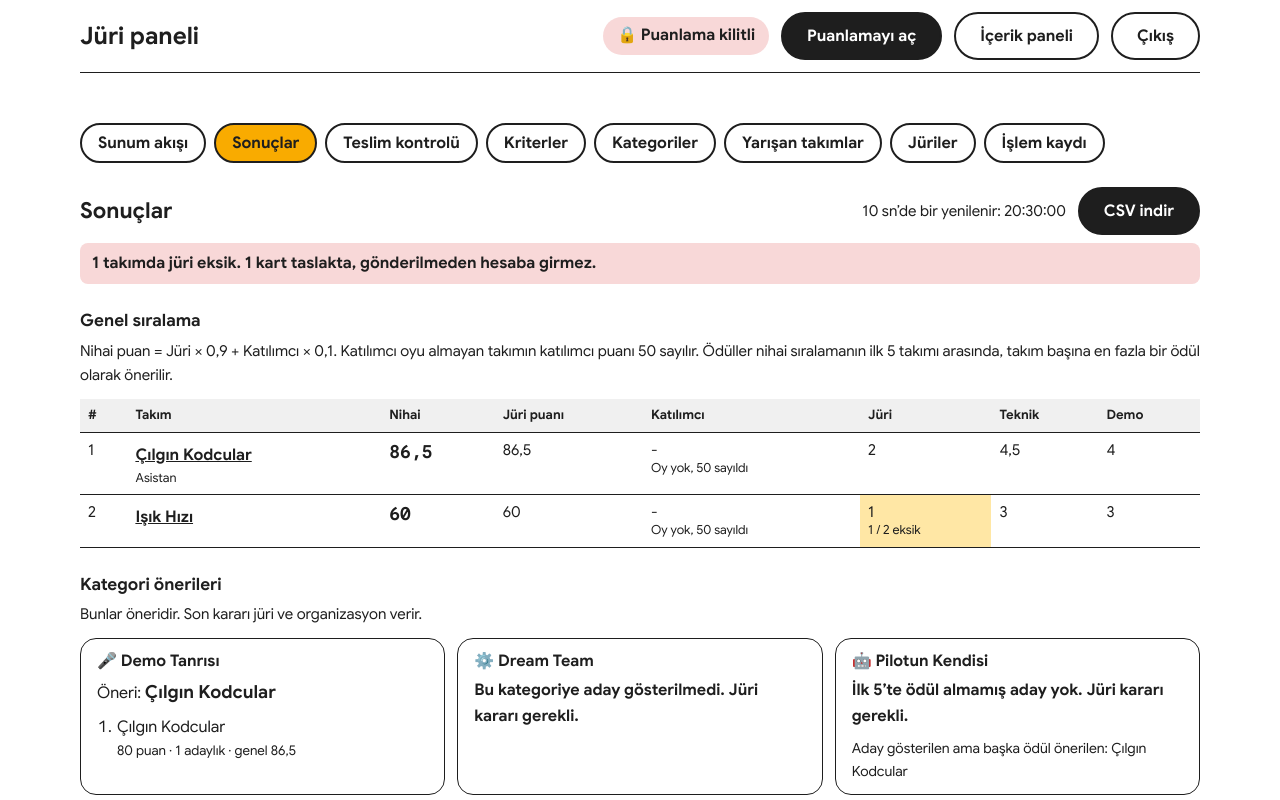
Test case: kilitliyken › Yarışan takımlar düzenlenemez
Click the button "Yarışan takımlar". click: (803, 143)
box: [724,123,882,163]
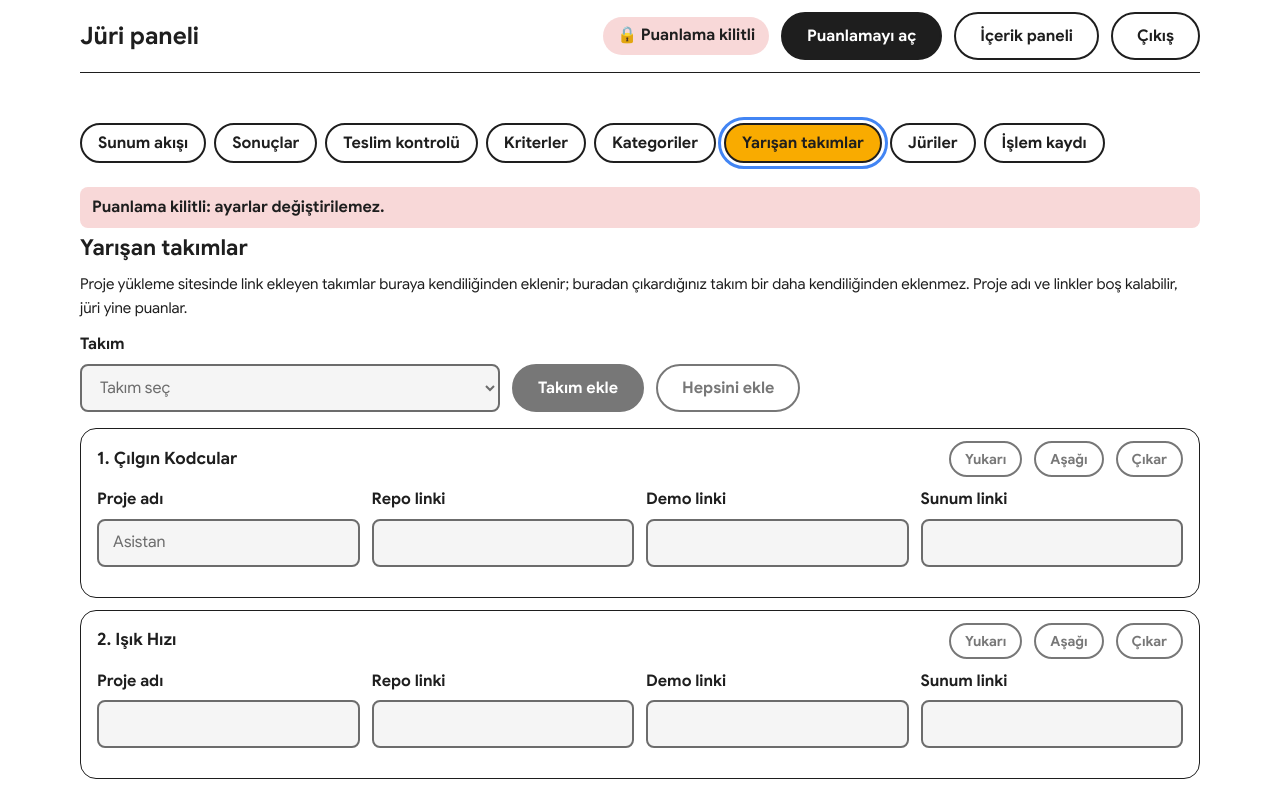
Expected: the text "Puanlama kilitli: ayarlar değiştirilemez." is shown, [80,187,1200,228]
Expected: the field labelled "Proje adı" below "1. Çılgın Kodcular" is disabled, [97,519,360,567]
Expected: the field labelled "Repo linki" below "1. Çılgın Kodcular" is disabled, [372,519,634,567]
